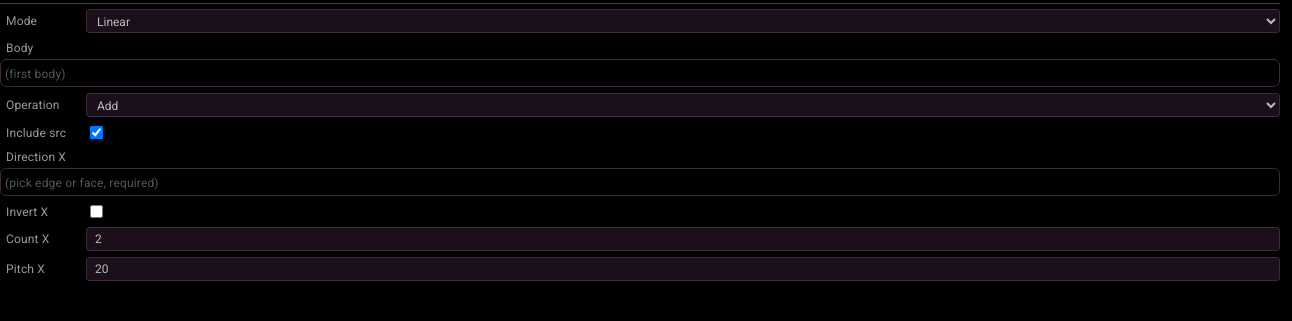
Test: ArrayEditor count fields honour parse: 'int' › rejects a fractional Count X and reverts to the stored value
Replace the text in the field named "Count X" with "2.5" at point(683, 239), box top-left (86, 227), bottom-right (1280, 251)
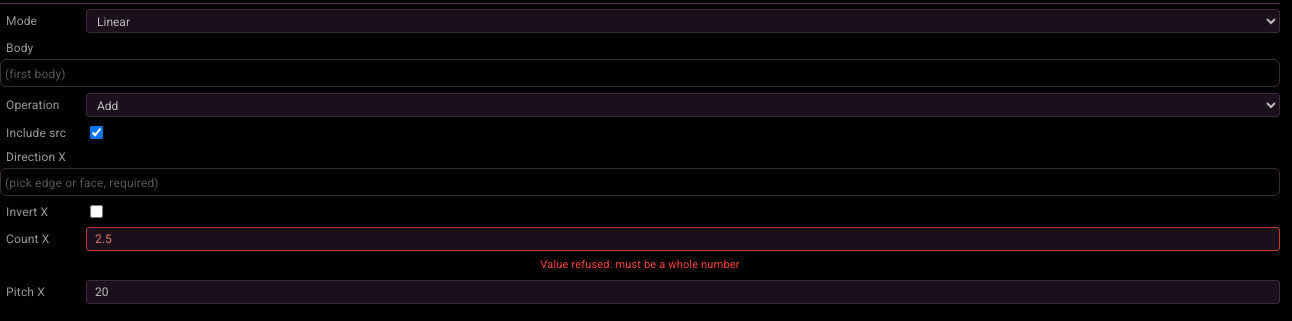
Leave the field named "Count X", box top-left (86, 227), bottom-right (1280, 251)
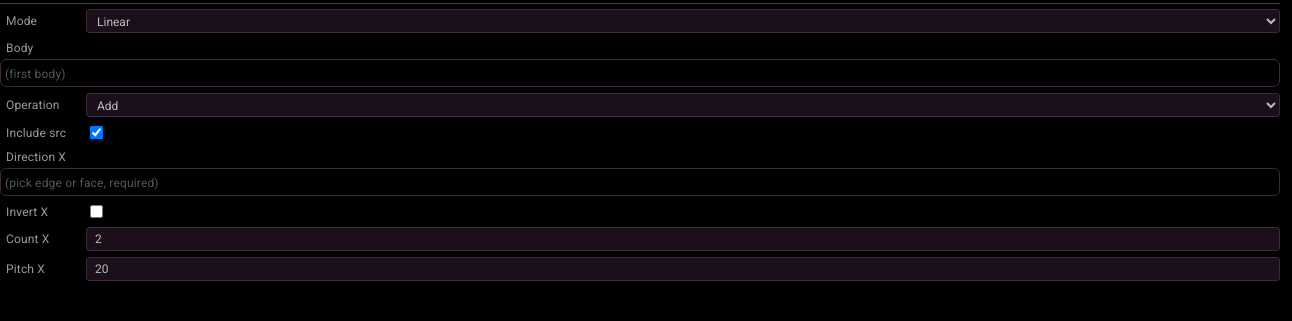
expect the field named "Count X" holds "2": met, box top-left (86, 227), bottom-right (1280, 251)
